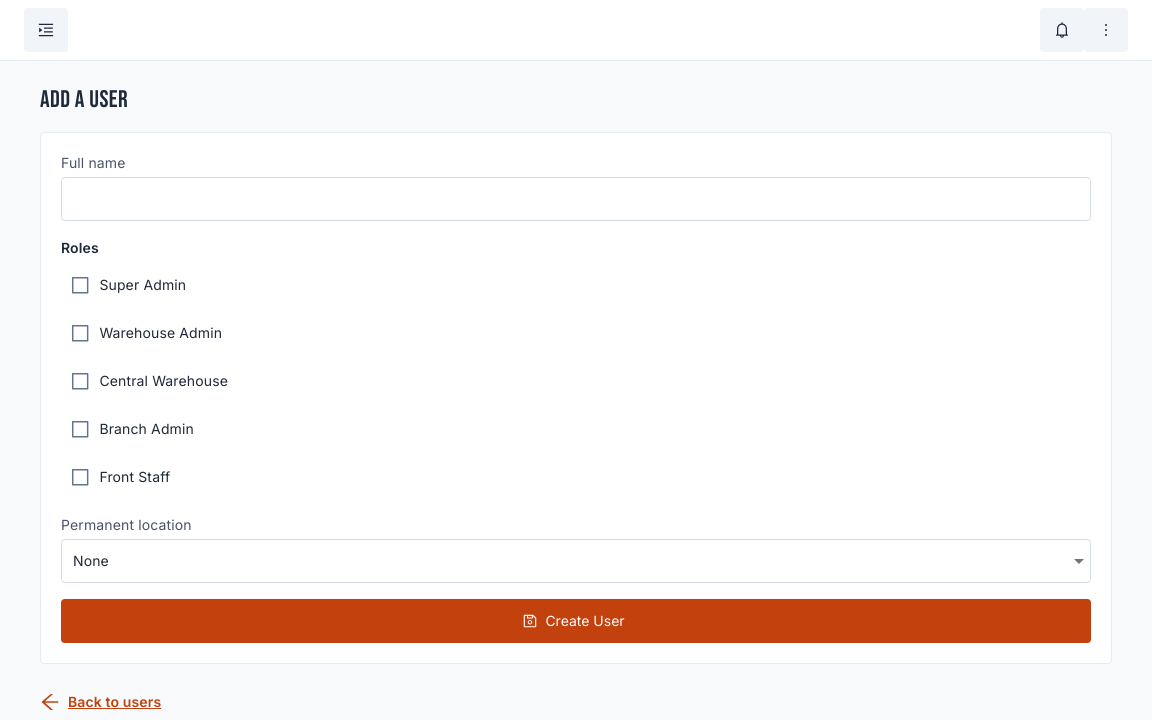
Test: create a user: one-time password shown once › is never kept in the query cache, the mutation cache or browser storage
Expected: the heading "Add a user" is shown, x1=40 y1=85 x2=128 y2=114
Step 1. Type "Nana Addo" into the field labelled "Full name" → (576, 199), box x1=61 y1=177 x2=1091 y2=221
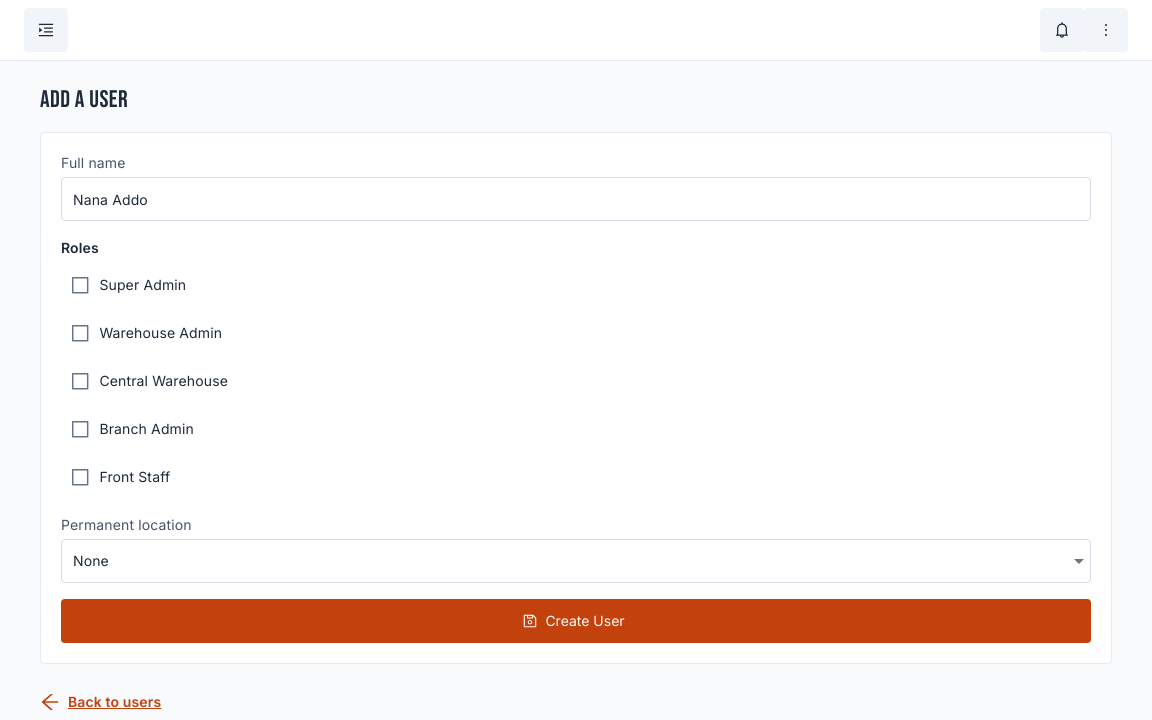
Step 2. Click the checkbox labelled "Front Staff" → (121, 477), box x1=71 y1=468 x2=170 y2=486
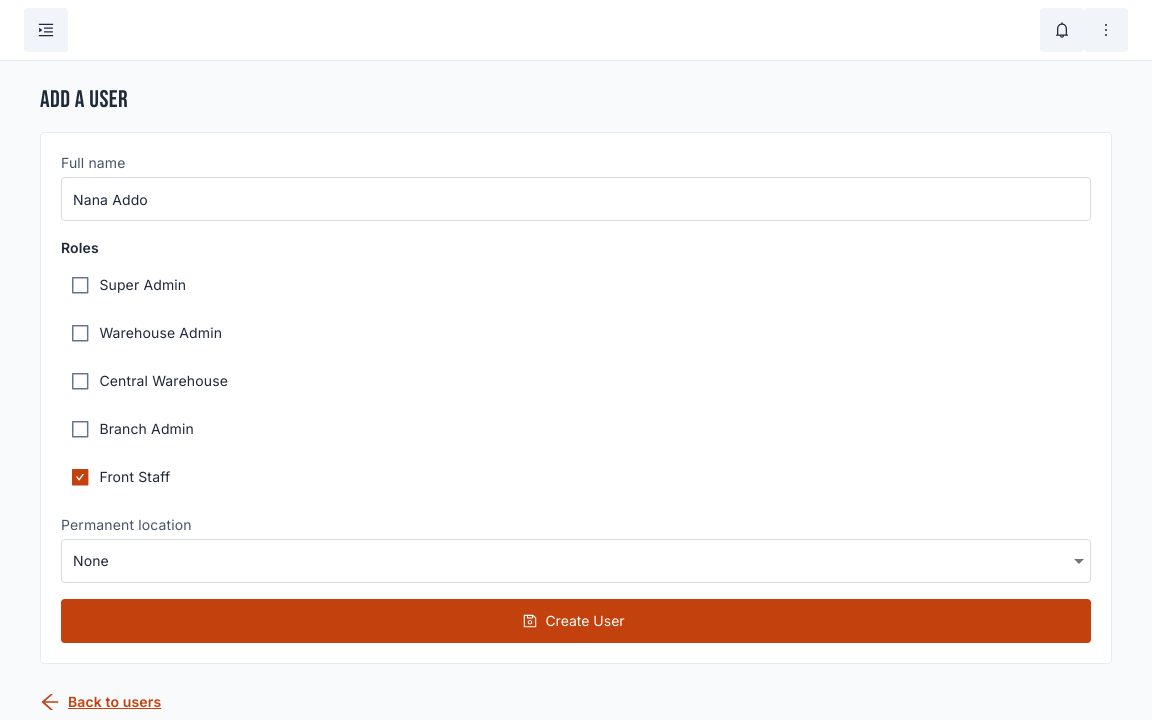
Step 3. Click the button "Create user" → (576, 621), box x1=61 y1=599 x2=1091 y2=643
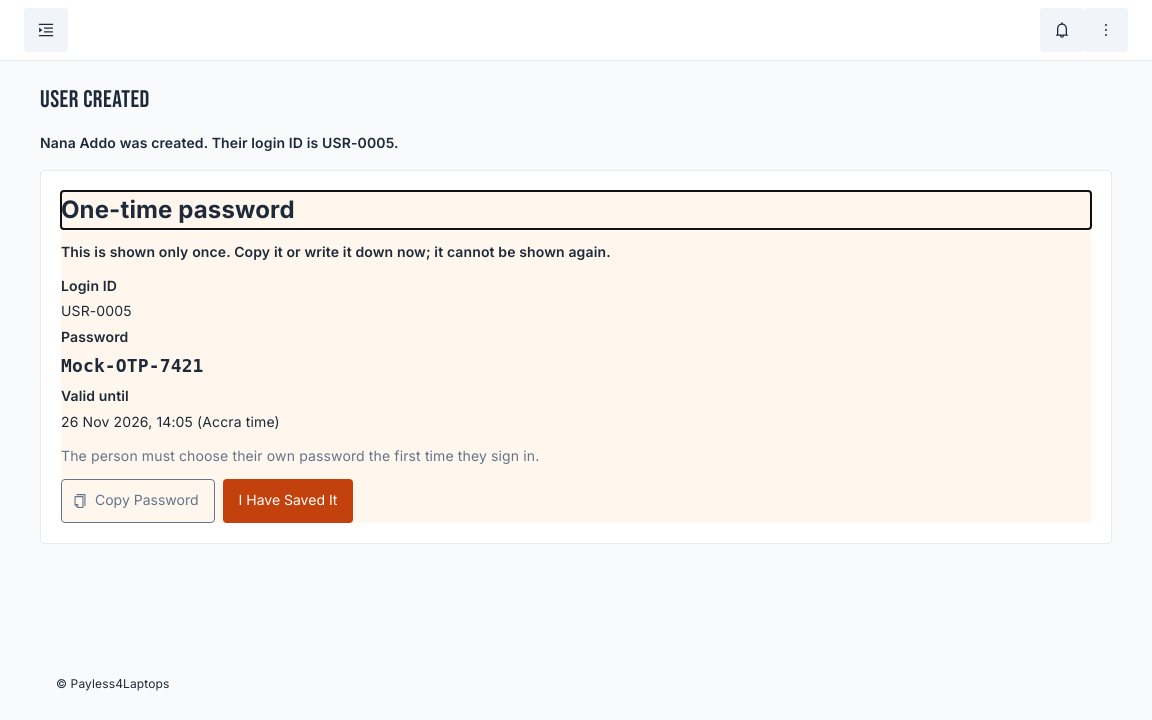
Result: the text "Mock-OTP-7421" is shown at x1=61 y1=355 x2=204 y2=376
